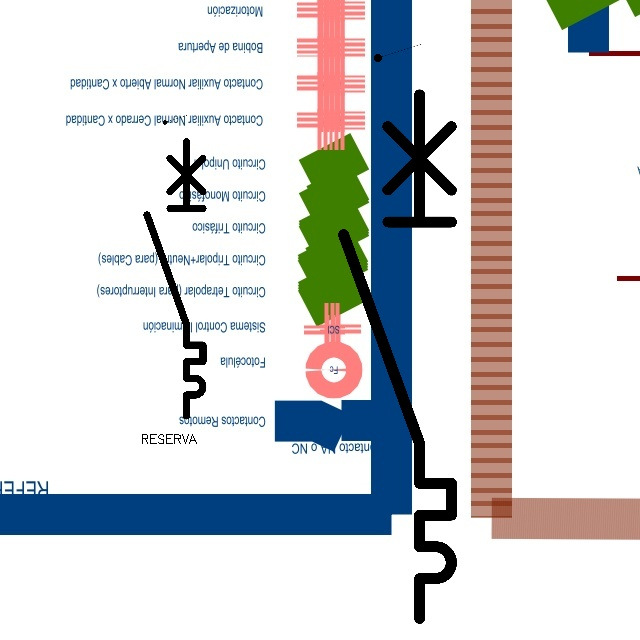interruptor_termomagnetico: (330, 81, 465, 632), (140, 134, 210, 422)
